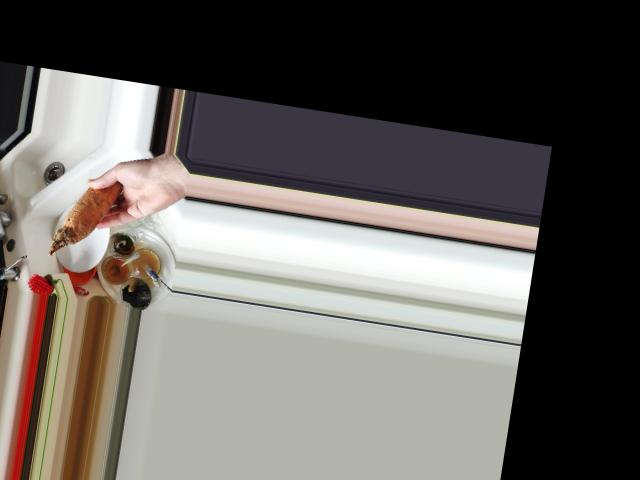sweet_potato: (47, 165, 129, 267)
